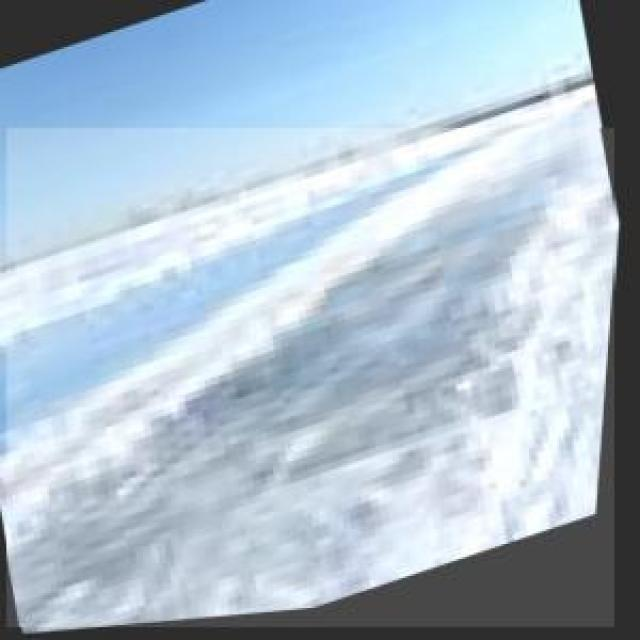ice-road: (9, 130, 614, 627)
